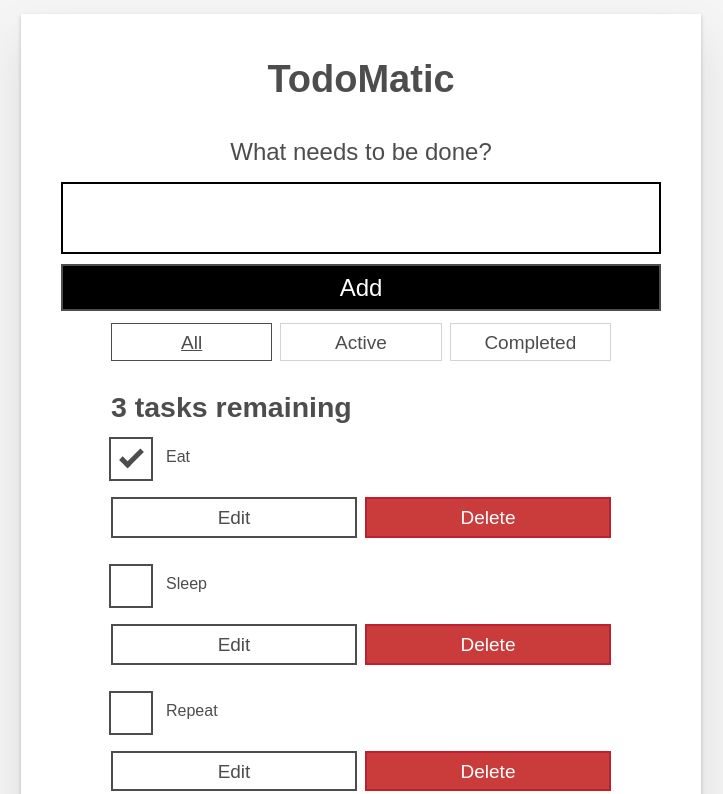
Test: should check the functionality of todomatic › should be able to render active tasks
The image size is (723, 794).
Click the button with test id "Active".
click(361, 342)  # box [280,323,442,361]
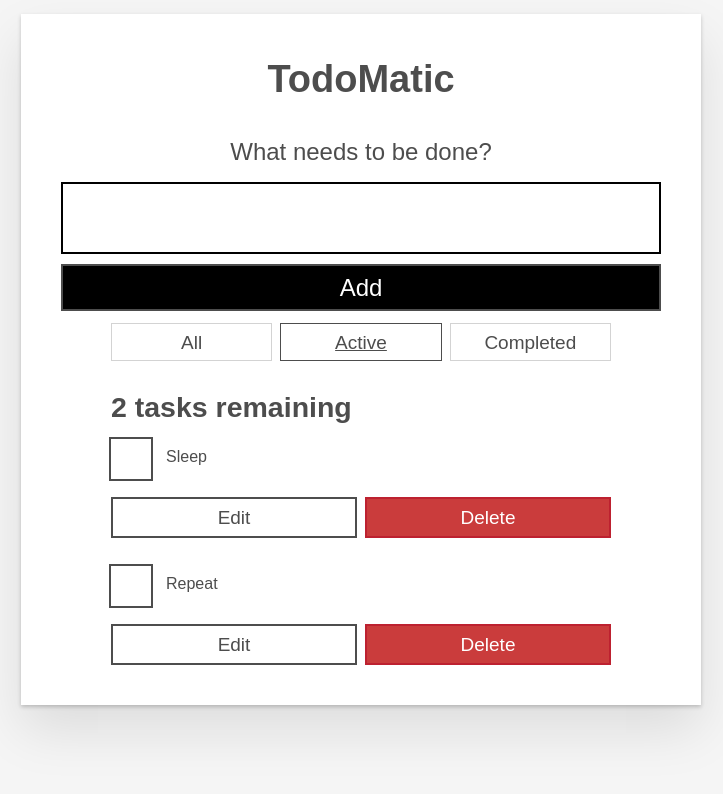
Expected: the number of list items is 2, [111,439,611,538]; [111,566,611,665]
